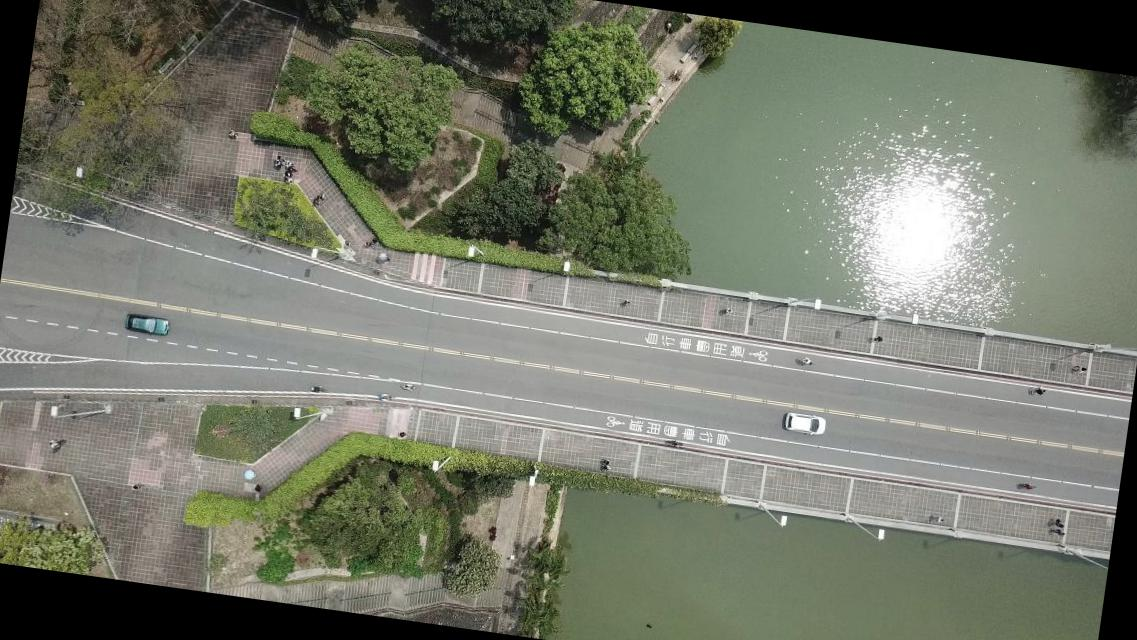vehicle: (123, 311, 171, 338), (782, 409, 828, 437)
